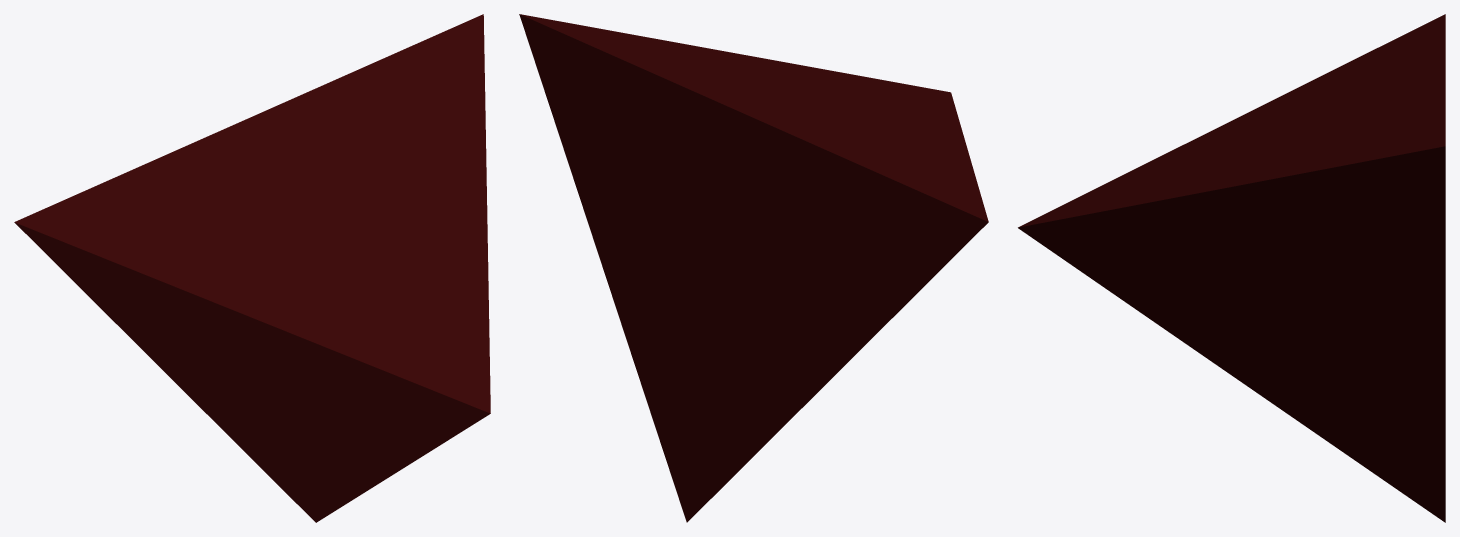
3 views of the same model, side by side, from view 1: azimuth 30°, elevation 25°; view 2: azimuth 150°, elevation 25°; view 3: azimuth 270°, elevation 25° (orthographic). The views are drawn at different scales.
Parts seen in each view (by area): view 1: ss3d_76_zap; view 2: ss3d_76_zap; view 3: ss3d_76_zap.
Part boxes in pixels (x1,y1,x2,y2): ss3d_76_zap: (14, 14, 490, 522); ss3d_76_zap: (519, 14, 988, 522); ss3d_76_zap: (1018, 14, 1445, 522).
Size of the model in its own units: 0.3281 by 0.3125 by 0.2656.
Materials: 1 (1 with a texture image).
